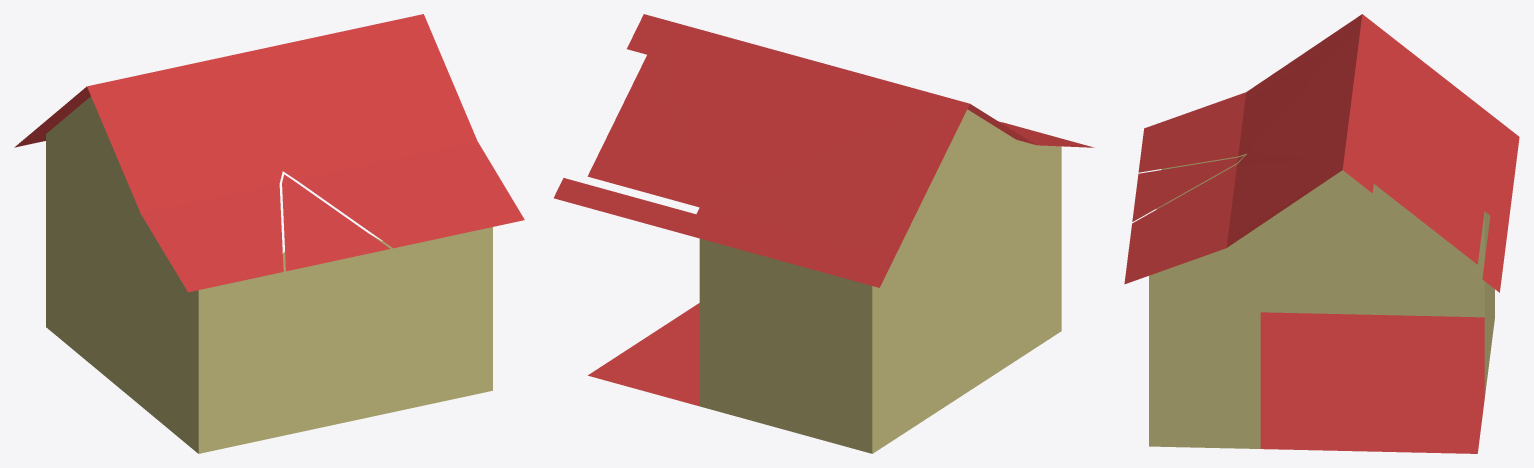
3 views of the same model, side by side, from view 1: azimuth 30°, elevation 25°; view 2: azimuth 150°, elevation 25°; view 3: azimuth 270°, elevation 25° (orthographic). The views are drawn at different scales.
Size of the model in its own units: 16.68 by 16.93 by 13.74.
